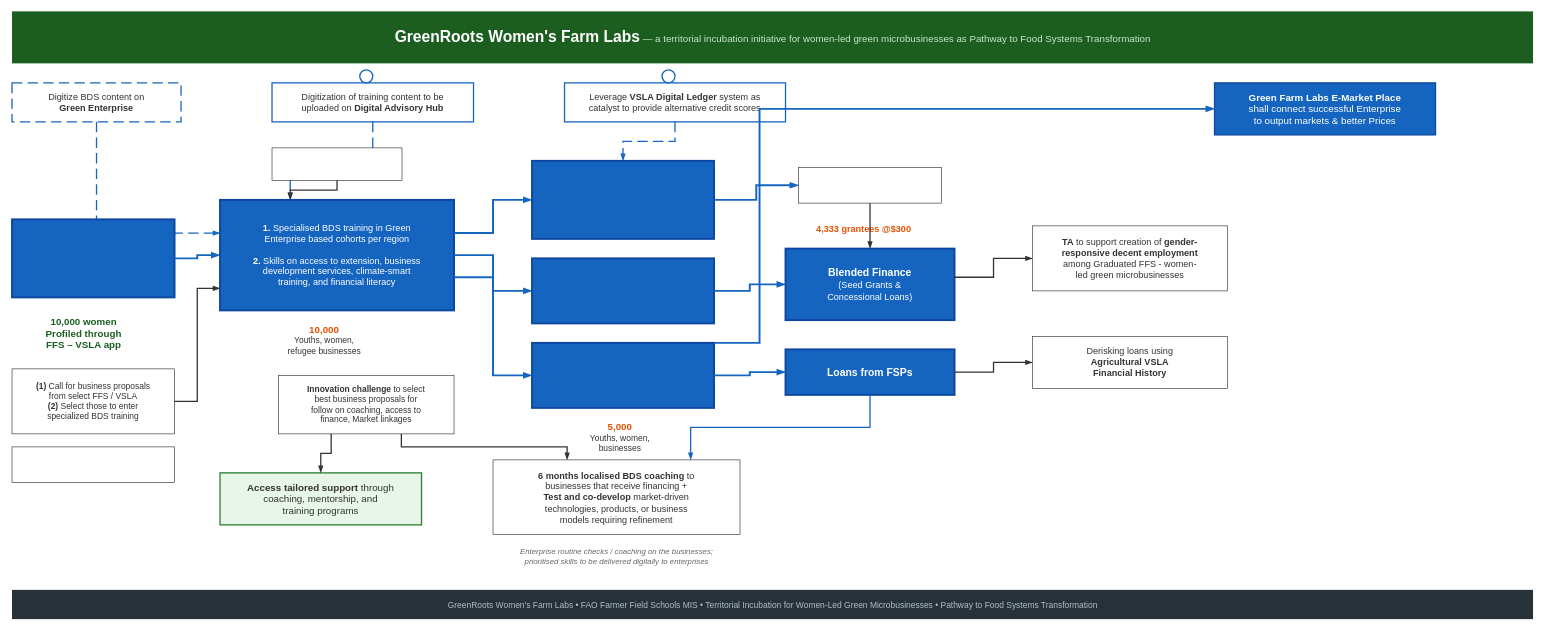
This 1544x630 diagram has some shape labels left out. The centre of each missing label's shape, as x and y in pixels:
"$200 grants to select businesses" belongs at (870,185).
"2 weeks Tailored Cohort Trainings" belongs at (336,163).
"Access to finance for women-led green microbusinesses" belongs at (623,290).
"Access to market for women-led green microbusinesses" belongs at (623,375).
"Assessment of credit worthiness & eligibility using alternative credit scores" belongs at (623,200).
"Orientation of local BDS service providers" belongs at (93,464).
"Women-led green microbusinesses selection anchored at FFS – VSLA" belongs at (93,258).
